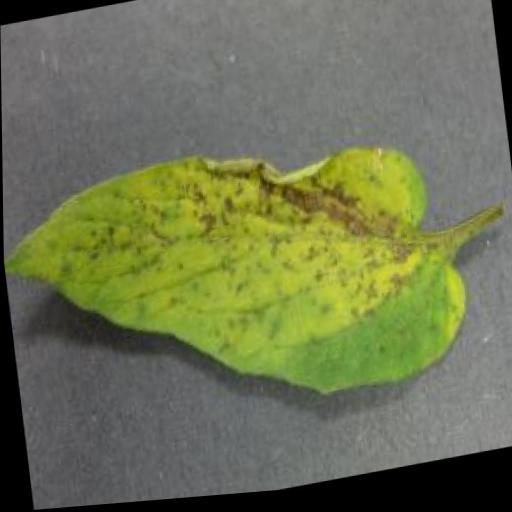Bacterial Spot: (2, 112, 477, 458)
